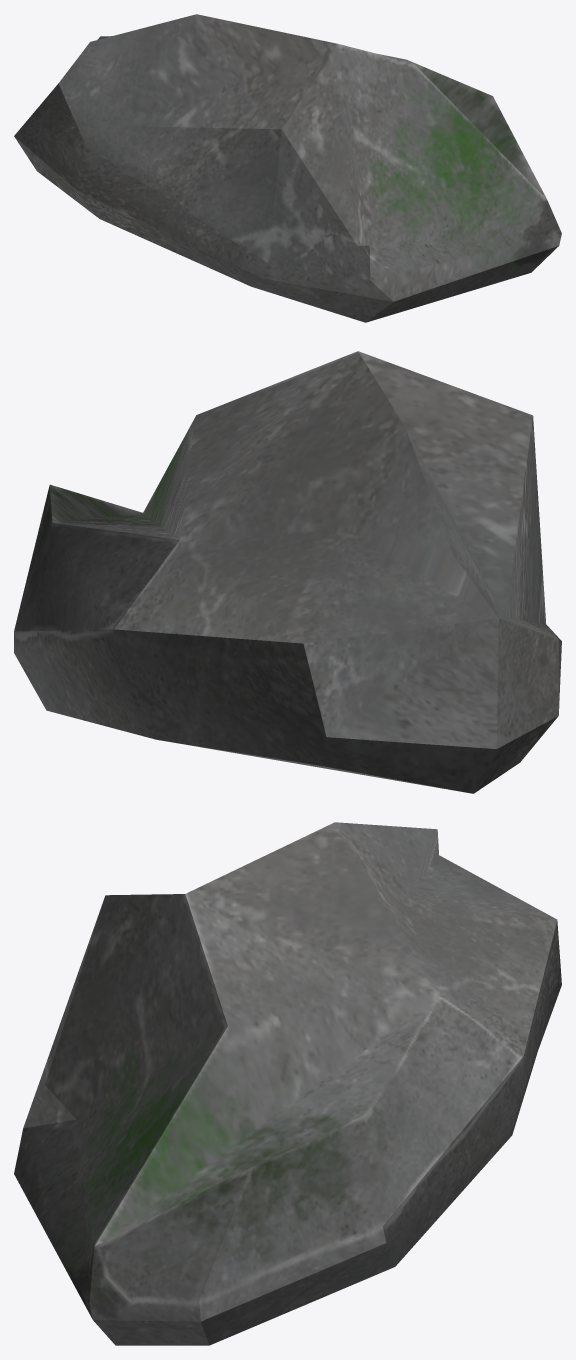
File: roca.fbx
3 renders of one model, top to bottom at view 1: azimuth 30°, elevation 25°; view 2: azimuth 150°, elevation 25°; view 3: azimuth 270°, elevation 25°, orthographic. The views are drawn at different scales.
Visible parts, largest first — view 1: Cube.094; view 2: Cube.094; view 3: Cube.094.
Part boxes in pixels (x1,y1,x2,y2): Cube.094: (14,14,561,322); Cube.094: (14,351,561,793); Cube.094: (14,822,561,1345).
Bounding box in the file's own units: 6.95 × 4.15 × 5.8.
Materials: 1 (1 with a texture image).
